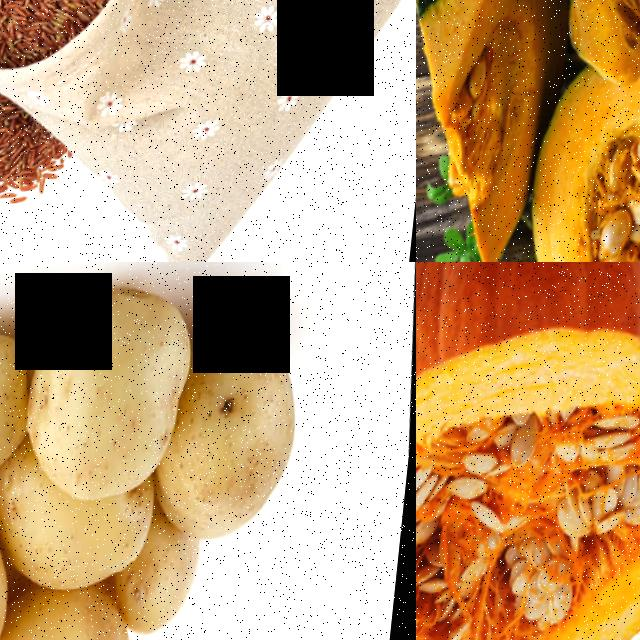potato: (21, 279, 204, 514), (157, 319, 315, 560), (0, 474, 166, 604), (128, 530, 222, 640), (0, 335, 45, 522), (0, 592, 145, 640)
pumpkin: (416, 262, 640, 640), (416, 0, 583, 262), (527, 41, 640, 262)
red rice: (0, 79, 59, 216), (0, 0, 130, 61)
